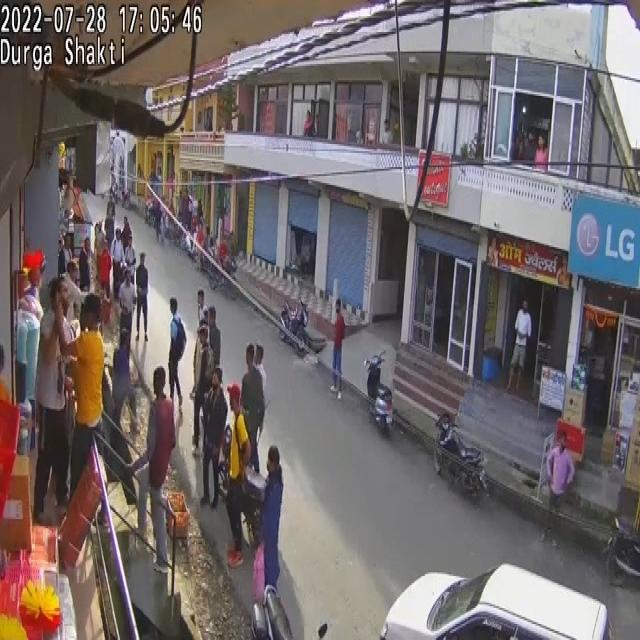fight: (6, 183, 280, 596), (188, 279, 272, 563), (65, 293, 122, 521), (32, 278, 77, 526), (133, 367, 175, 572), (222, 386, 252, 566), (201, 366, 228, 508), (259, 447, 283, 596), (240, 348, 266, 468), (168, 300, 186, 418)
non-fight: (56, 198, 150, 378), (146, 178, 214, 270), (541, 426, 574, 547), (192, 331, 212, 451), (329, 298, 345, 396), (135, 252, 148, 338)
